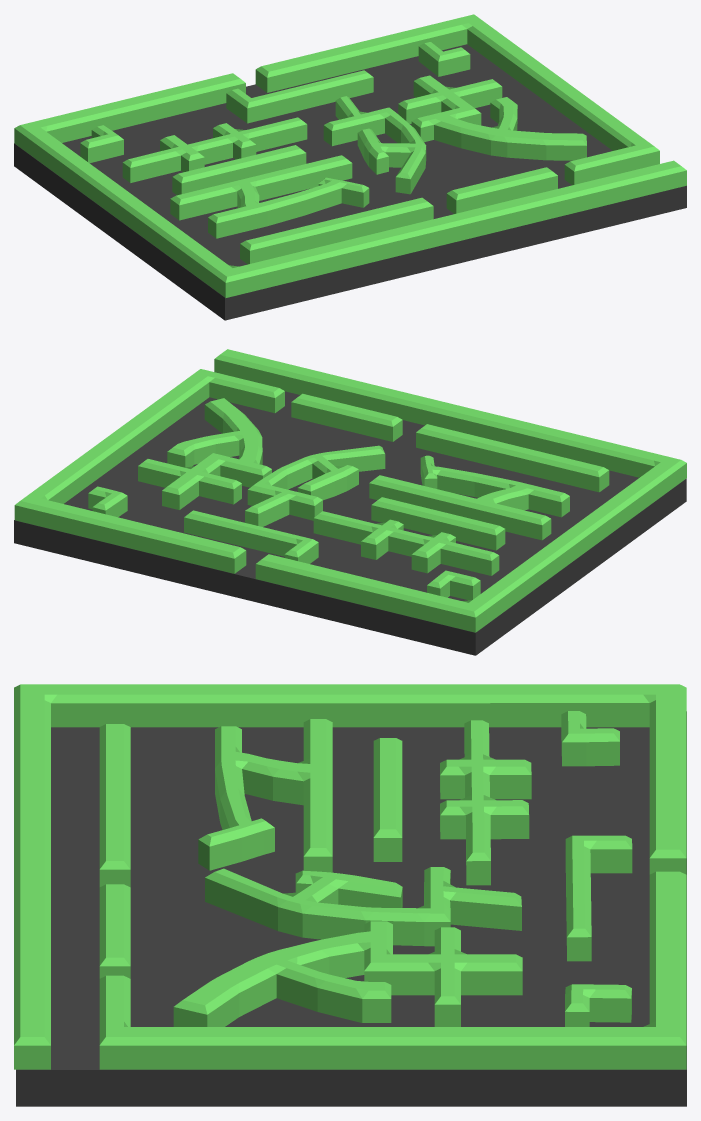
File: geishamap.fbx
3 renders of one model, top to bottom at view 1: azimuth 30°, elevation 25°; view 2: azimuth 150°, elevation 25°; view 3: azimuth 270°, elevation 25°, orthographic. The views are drawn at different scales.
Visible parts, largest first — view 1: Walls.002, Ground.004; view 2: Walls.002, Ground.004; view 3: Walls.002, Ground.004.
Part boxes in pixels (box(x1,y1,x2,y2)): Walls.002: box(14, 14, 686, 297); Ground.004: box(14, 44, 686, 320); Walls.002: box(14, 349, 686, 632); Ground.004: box(14, 391, 686, 655); Walls.002: box(14, 684, 686, 1069); Ground.004: box(16, 711, 686, 1106).
Size of the model in its own units: 2782 by 240 by 2207.
